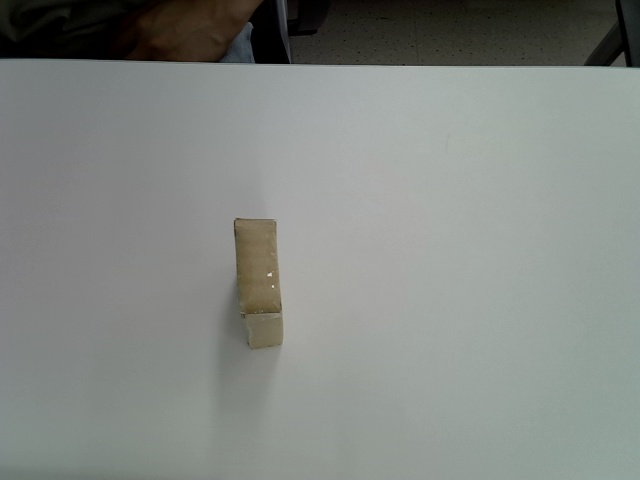normal: (233, 217, 286, 350)
